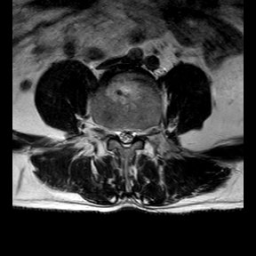CCS_stenosis: (122, 120, 128, 153)
LFS_stenosis: (136, 119, 143, 144)
LLS_normal: (128, 120, 136, 148)
RFS_normal: (107, 118, 115, 143)
RLS_normal: (114, 120, 122, 147)
